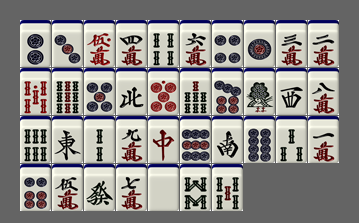0m: (84, 20, 115, 67)
0p: (148, 68, 179, 115)
0s: (20, 68, 51, 115)
1m: (308, 116, 339, 163)
1p: (244, 20, 275, 67)
1s: (244, 68, 275, 115)
1z: (52, 116, 83, 163)
2m: (308, 20, 339, 67)
2p: (20, 20, 51, 67)
2s: (84, 116, 115, 163)
2z: (212, 116, 243, 163)
3m: (276, 20, 307, 67)
3p: (52, 20, 83, 67)
3s: (276, 116, 307, 163)
3z: (276, 68, 307, 115)
4m: (116, 20, 147, 67)
4p: (212, 20, 243, 67)
4s: (148, 20, 179, 67)
4z: (116, 68, 147, 115)
5m: (52, 164, 83, 211)
5p: (84, 68, 115, 115)
5s: (212, 164, 243, 211)
5z: (148, 164, 179, 211)
6m: (180, 20, 211, 67)
6p: (20, 164, 51, 211)
6s: (20, 116, 51, 163)
6z: (84, 164, 115, 211)
7m: (116, 164, 147, 211)
7p: (212, 68, 243, 115)
7s: (180, 68, 211, 115)
7z: (148, 116, 179, 163)
8m: (308, 68, 339, 115)
8p: (244, 116, 275, 163)
8s: (180, 164, 211, 211)
9m: (116, 116, 147, 163)
9p: (180, 116, 211, 163)
9s: (52, 68, 83, 115)
